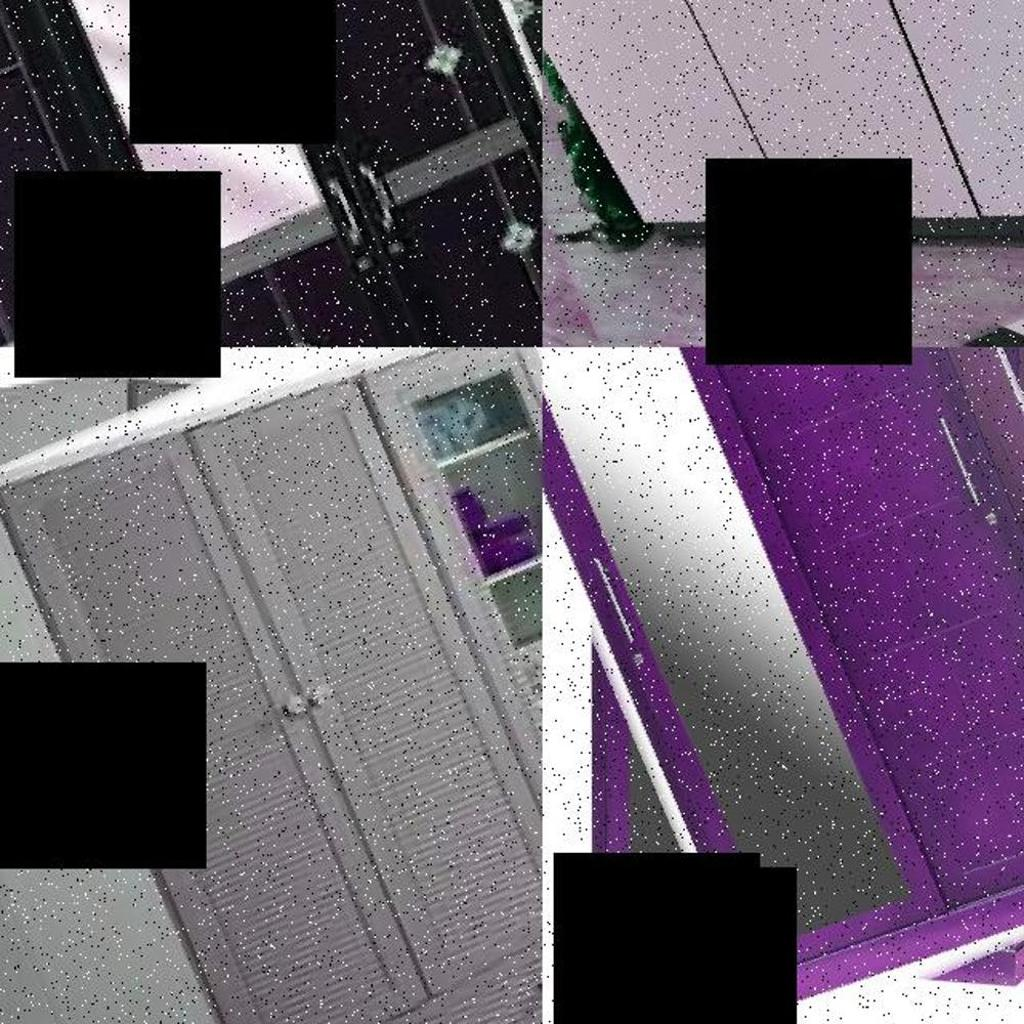cabinet: (0, 347, 542, 1024), (542, 347, 1024, 1019), (0, 0, 542, 347), (542, 0, 1024, 347)
